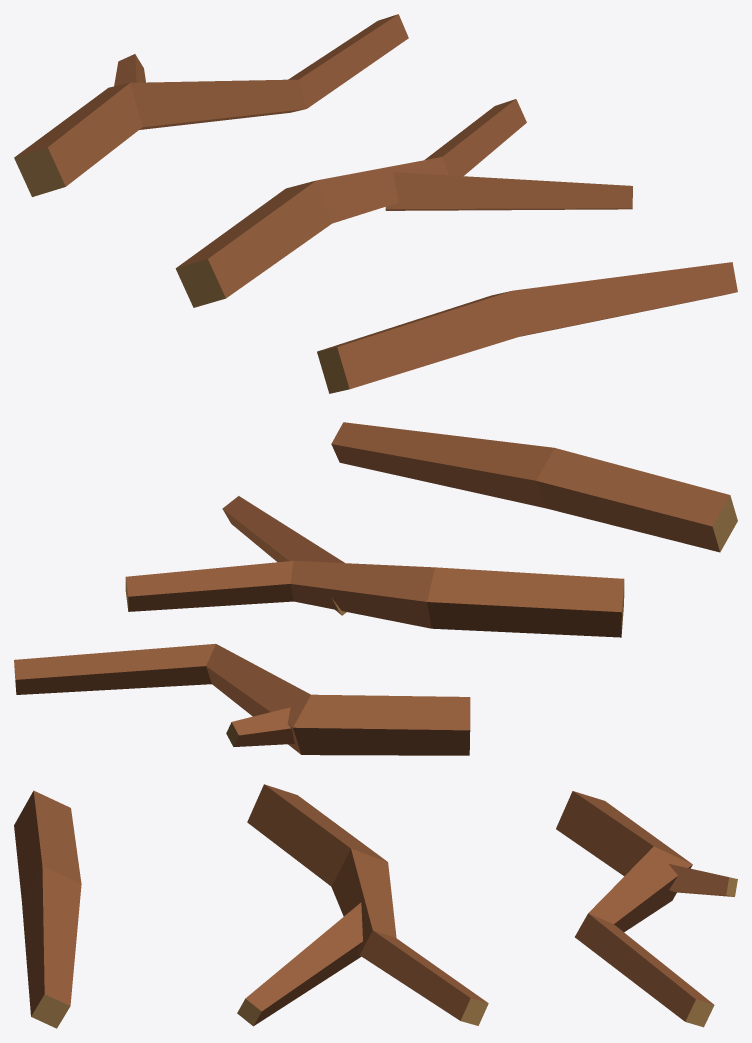
The model's file is Sticks_3_Variants.glb.
3 renders of one model, top to bottom at view 1: azimuth 30°, elevation 25°; view 2: azimuth 150°, elevation 25°; view 3: azimuth 270°, elevation 25°, orthographic. The views are drawn at different scales.
Visible parts, largest first — view 1: Forked branch, Bent stick, Straight twig; view 2: Forked branch, Bent stick, Straight twig; view 3: Forked branch, Bent stick, Straight twig.
Part boxes in pixels (box(x1,y1,x2,y2)): Forked branch: box(175, 99, 632, 307); Bent stick: box(14, 14, 408, 196); Straight twig: box(317, 262, 737, 393); Forked branch: box(125, 496, 624, 637); Bent stick: box(14, 643, 470, 755); Straight twig: box(331, 422, 737, 552); Forked branch: box(237, 784, 488, 1026); Bent stick: box(556, 791, 737, 1027); Straight twig: box(14, 790, 81, 1028).
Size of the model in its own units: 1.06 by 0.1571 by 1.57.
Materials: 1 (1 with a texture image).
